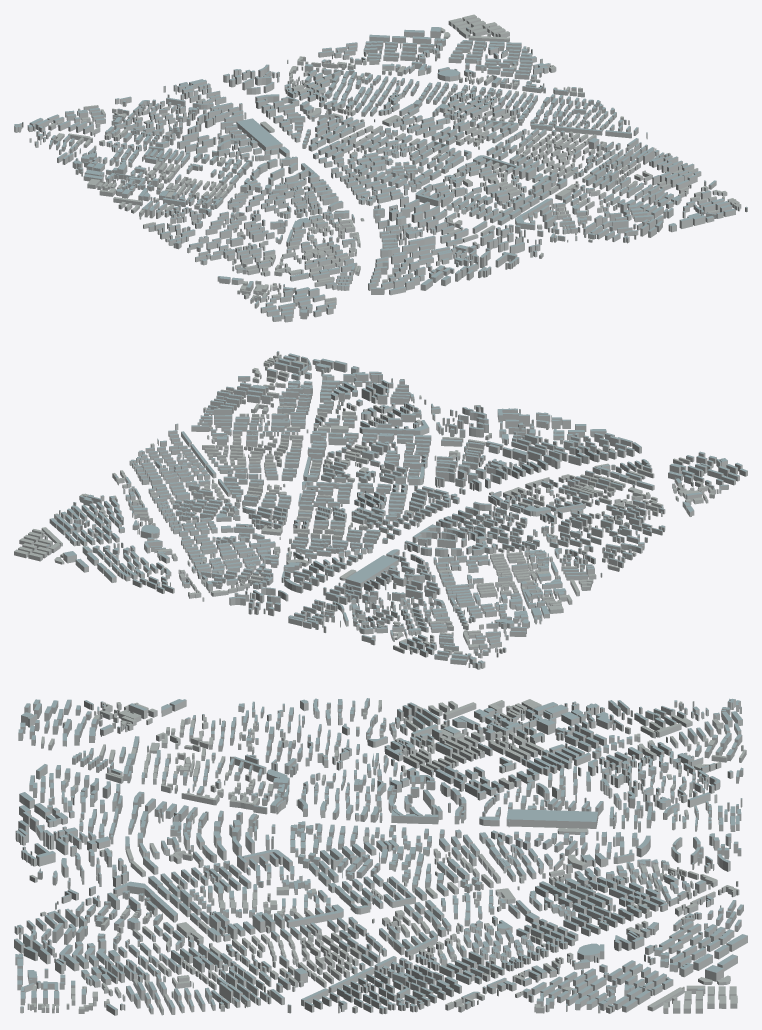
The model's file is far.glb.
3 views of the same model, one above another, from view 1: azimuth 30°, elevation 25°; view 2: azimuth 150°, elevation 25°; view 3: azimuth 270°, elevation 25° (orthographic). The views are drawn at different scales.
Bounding box in the file's own units: 2126 × 44.92 × 2116.
